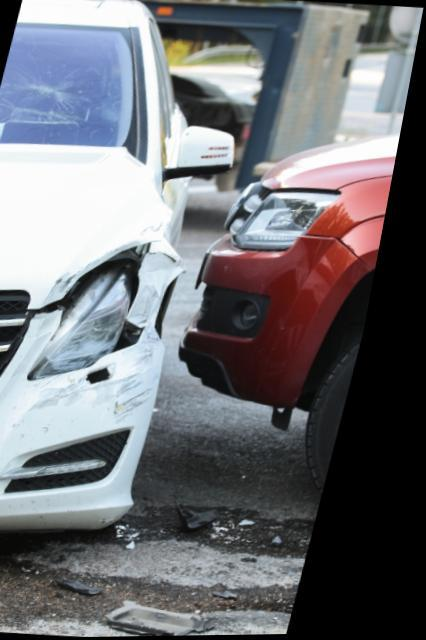dent: (138, 247, 188, 325)
dislocated part: (36, 257, 151, 382)
glass shatter: (0, 26, 137, 147)
scratch: (44, 328, 174, 425)
